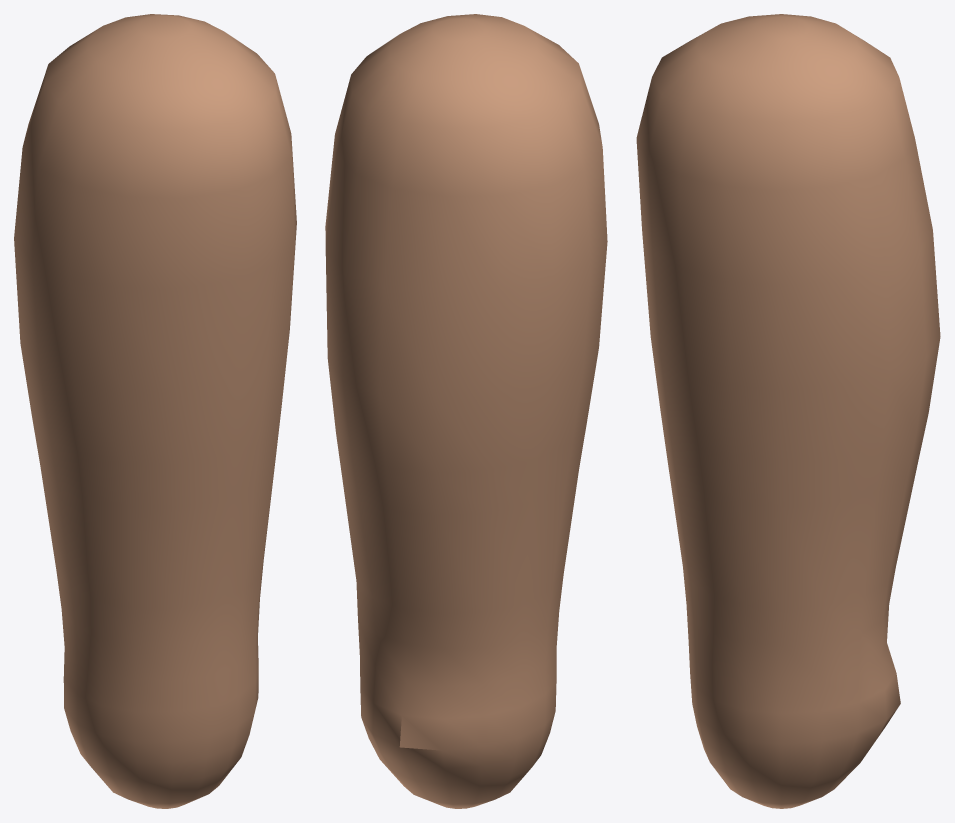
The model's file is thigh_l.glb.
The picture shows the model from 3 angles, left to right: view 1: azimuth 30°, elevation 25°; view 2: azimuth 150°, elevation 25°; view 3: azimuth 270°, elevation 25°; orthographic projection.
Visible parts, largest first — view 1: OUT; view 2: OUT; view 3: OUT.
Part boxes in pixels (box(x1,y1,x2,y2)): OUT: box(14, 14, 296, 808); OUT: box(325, 14, 607, 808); OUT: box(636, 14, 940, 808).
Bounding box in the file's own units: 0.1689 × 0.504 × 0.1803.
